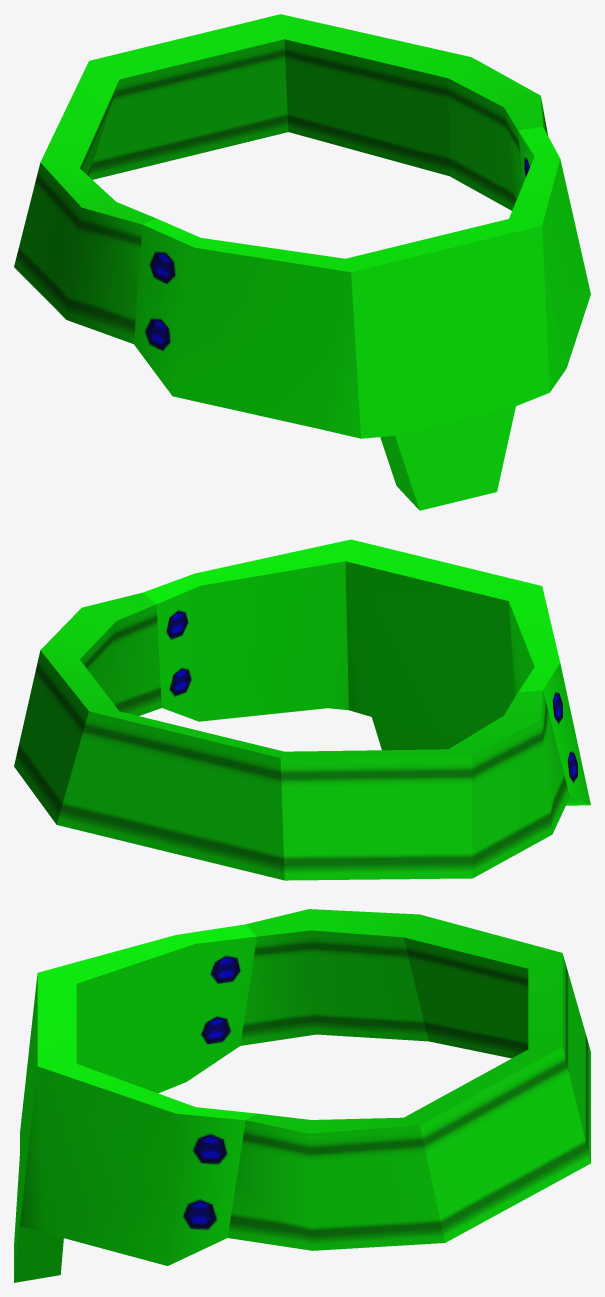
Rendered from Headband.fbx.
3 views of the same model, one above another, from view 1: azimuth 30°, elevation 25°; view 2: azimuth 150°, elevation 25°; view 3: azimuth 270°, elevation 25° (orthographic).
Parts seen in each view (by area): view 1: Headband; view 2: Headband; view 3: Headband.
Boxes of the visible parts, x1,y1,x2,y2 form: Headband: (14,14,590,510); Headband: (14,539,590,880); Headband: (14,909,590,1282).
Bounding box in the file's own units: 26.48 × 13.73 × 27.17.
